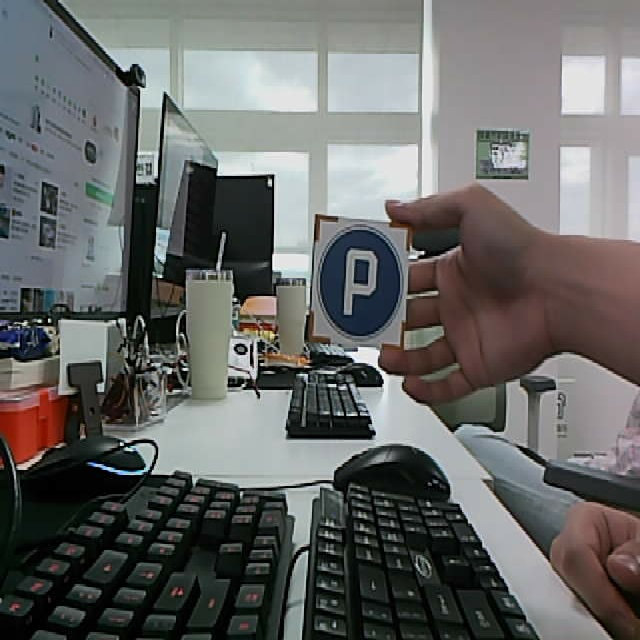parking: (306, 214, 413, 349)
